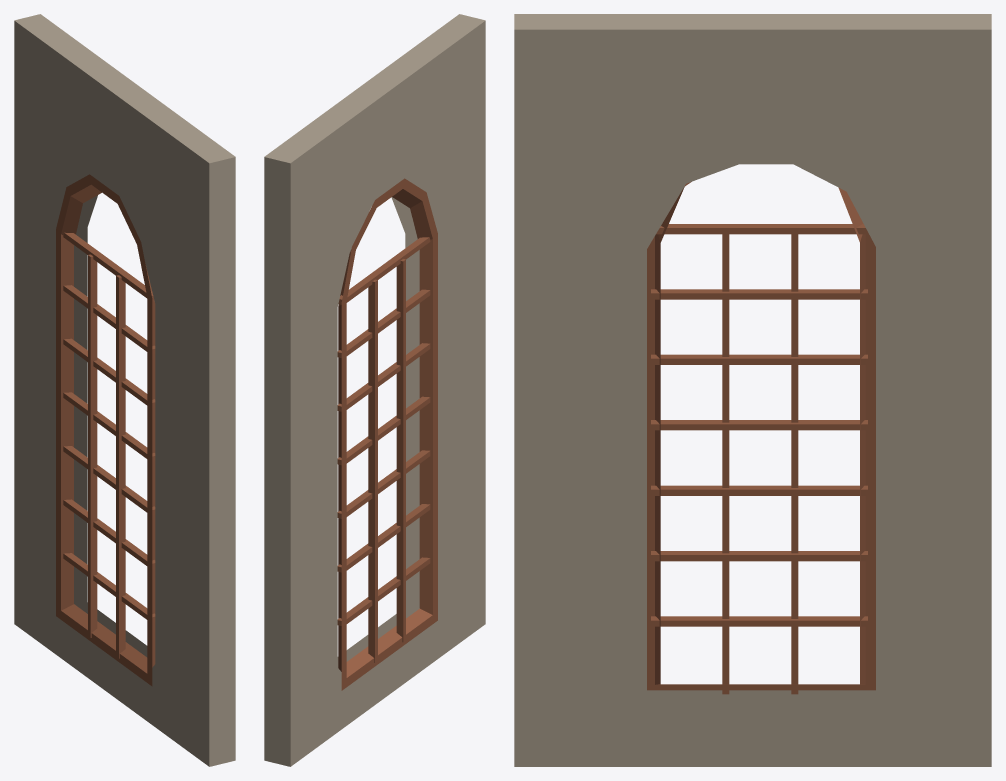
File: SM_Windows.FBX
The picture shows the model from 3 angles, left to right: view 1: azimuth 30°, elevation 25°; view 2: azimuth 150°, elevation 25°; view 3: azimuth 270°, elevation 25°; orthographic projection. The views are drawn at different scales.
Visible parts, largest first — view 1: SM_Windows; view 2: SM_Windows; view 3: SM_Windows.
Boxes of the visible parts, bbox=[...] form: SM_Windows: bbox=[14, 14, 235, 766]; SM_Windows: bbox=[264, 14, 485, 766]; SM_Windows: bbox=[514, 14, 991, 766].
Size of the model in its own units: 55.53 by 1008 by 591.
